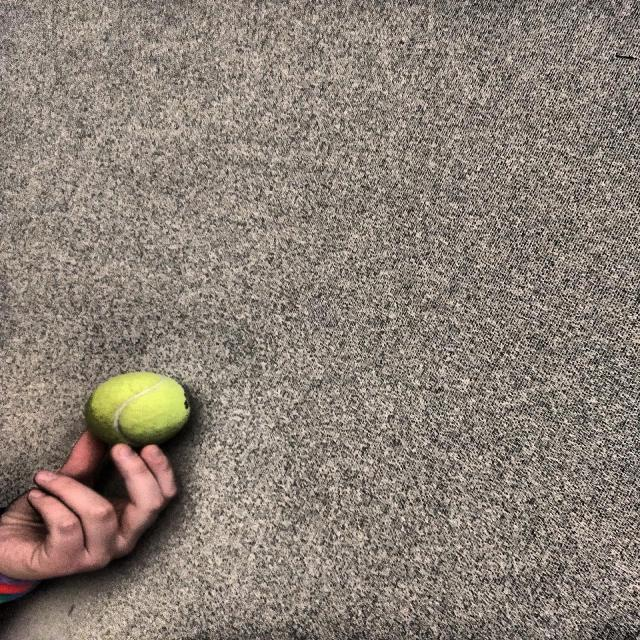tennis-ball: (80, 367, 204, 459)
